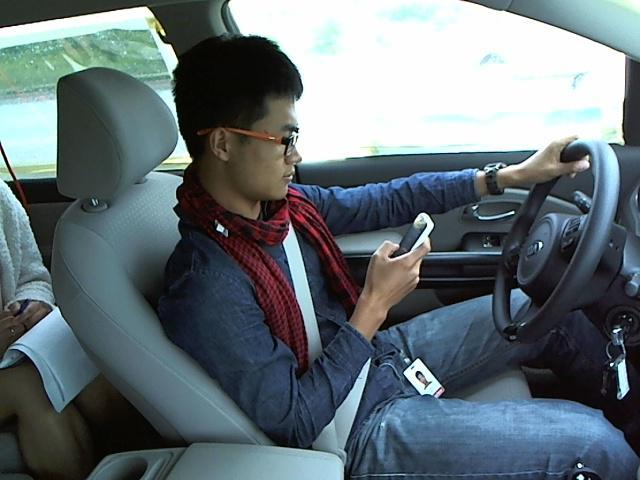PhoneUse: (384, 203, 441, 267)
